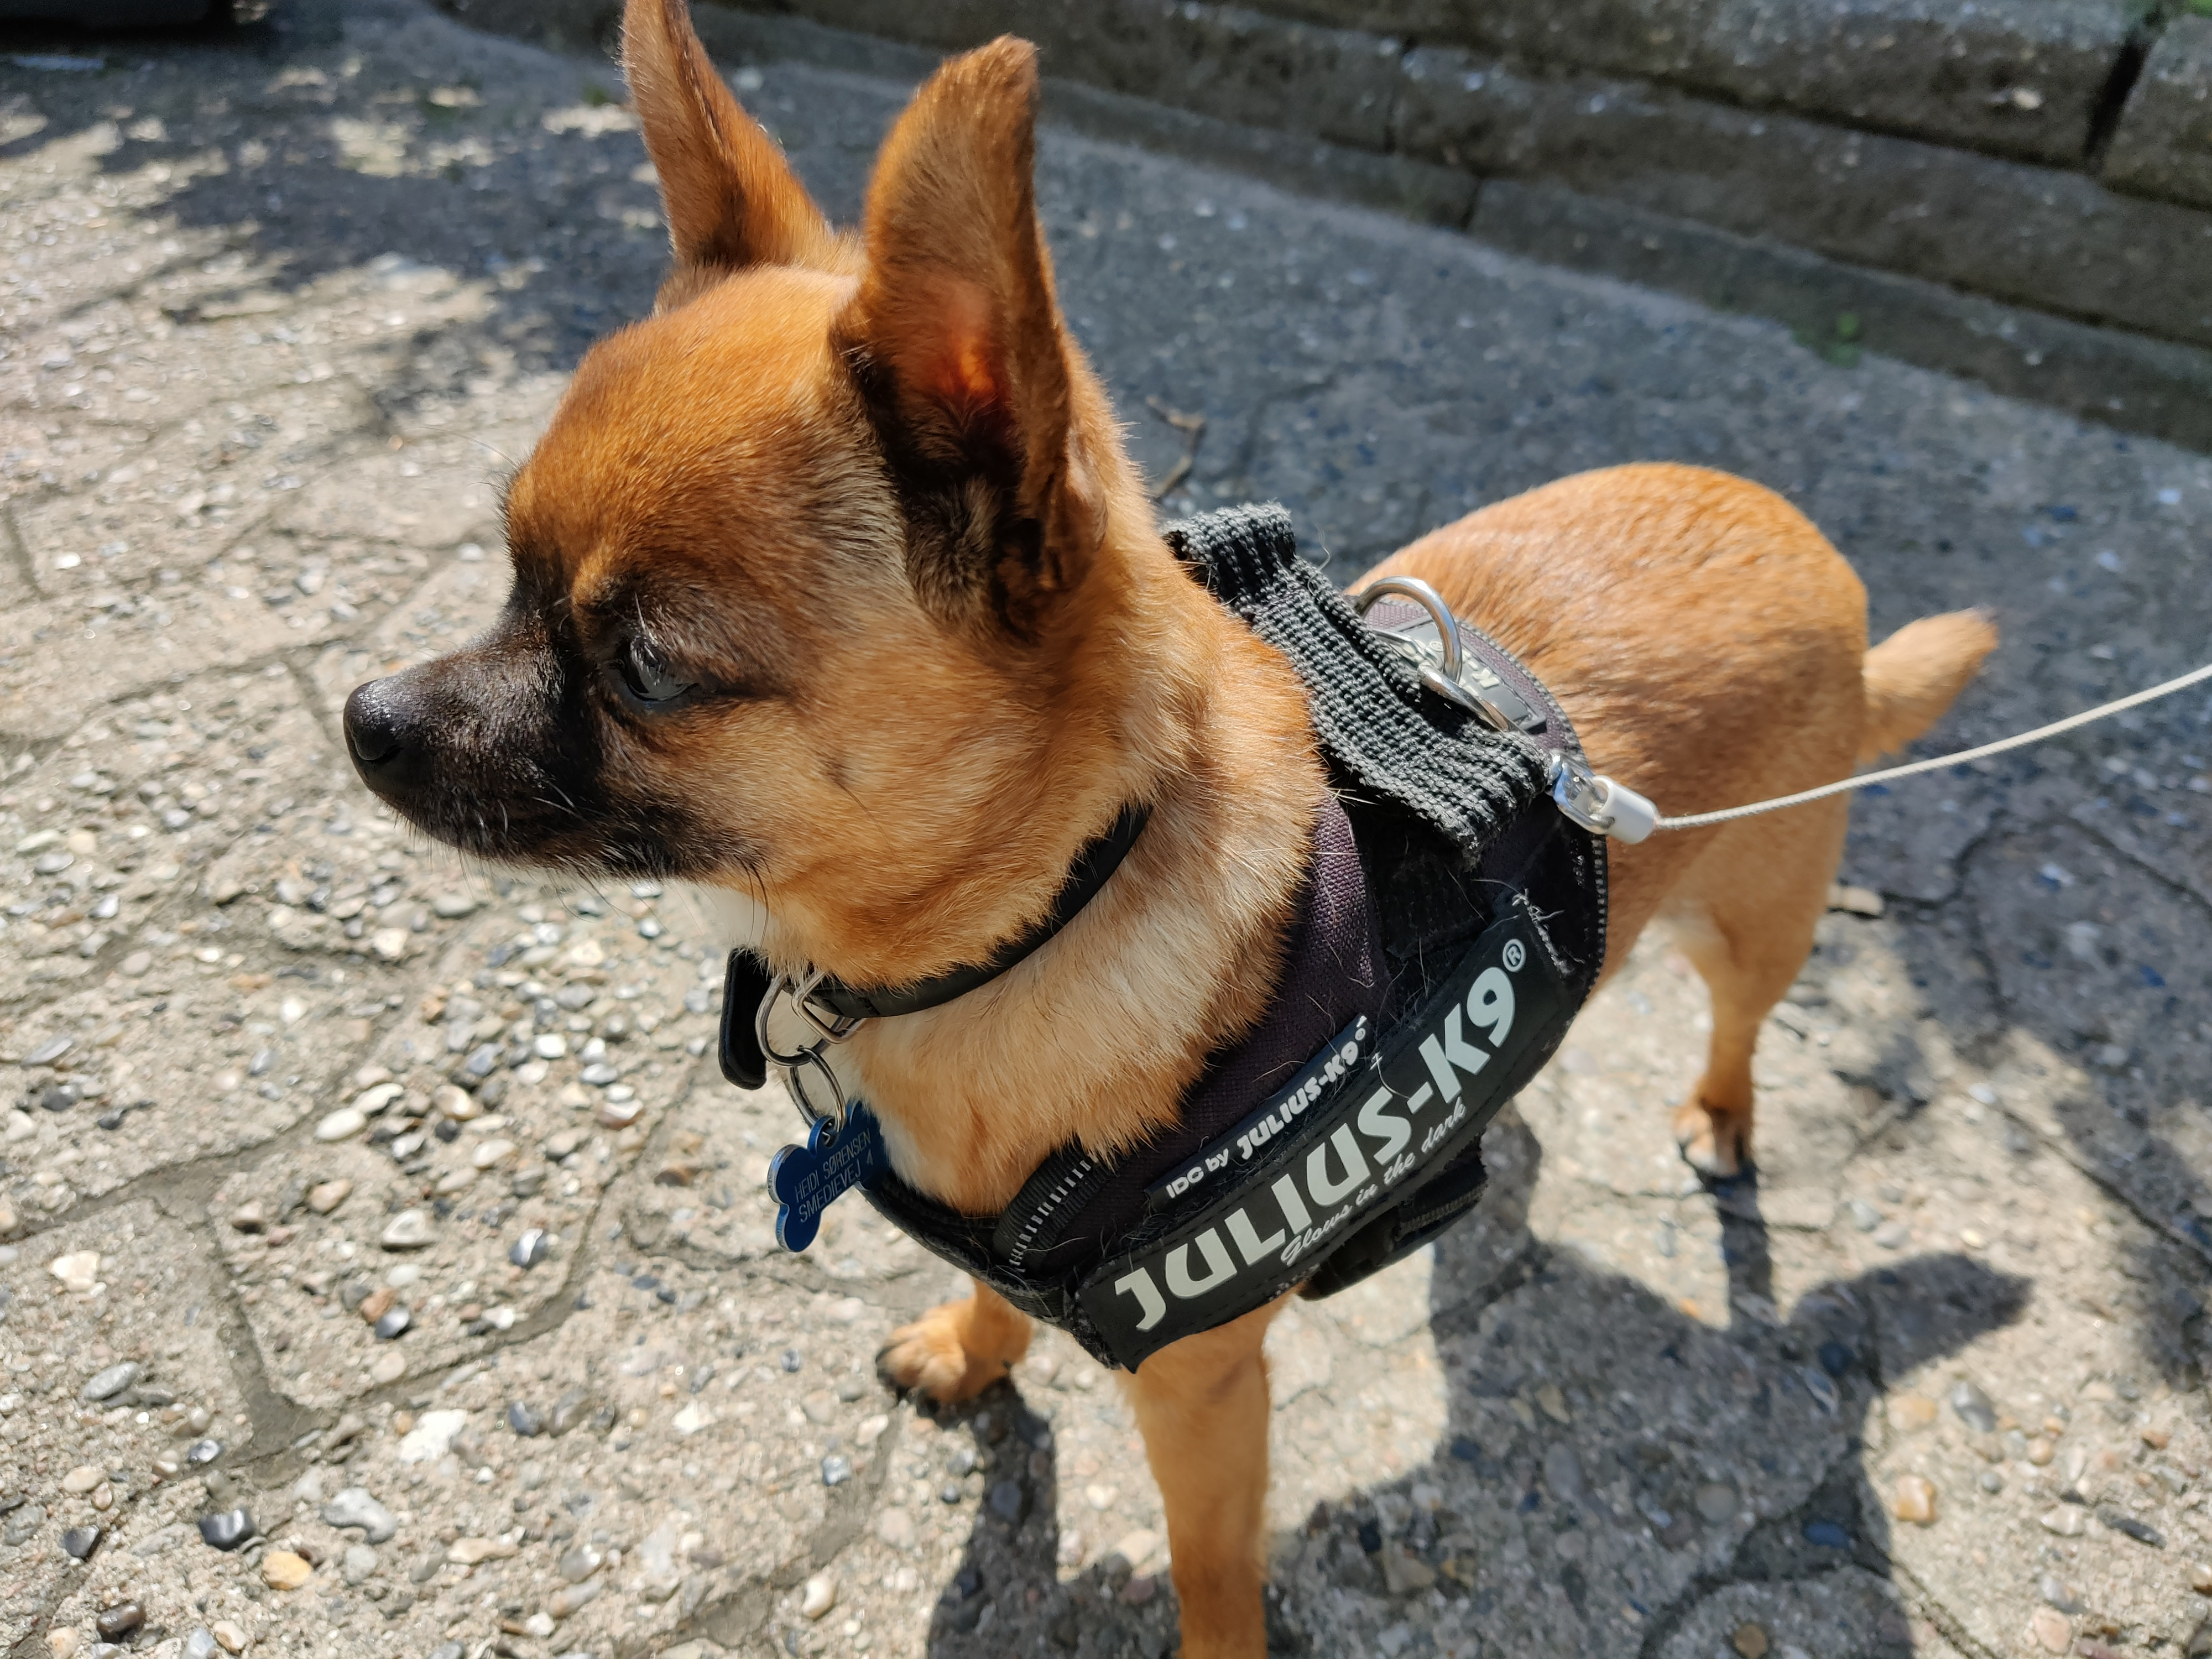Dog: (341, 0, 2001, 1659)
